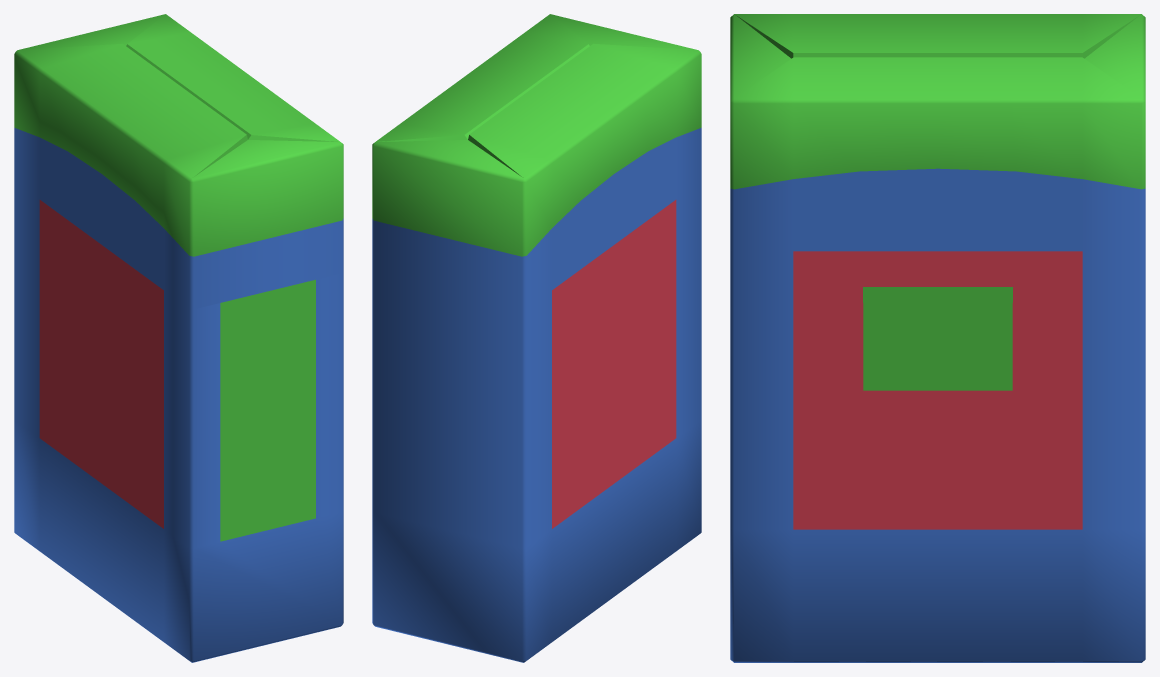
The model's file is CerialBox.fbx.
3 renders of one model, left to right at view 1: azimuth 30°, elevation 25°; view 2: azimuth 150°, elevation 25°; view 3: azimuth 270°, elevation 25°, orthographic. The views are drawn at different scales.
Visible parts, largest first — view 1: CerialBoxMesh; view 2: CerialBoxMesh; view 3: CerialBoxMesh.
Part boxes in pixels (box(x1,y1,x2,y2)): CerialBoxMesh: box(14, 14, 343, 662); CerialBoxMesh: box(372, 14, 701, 662); CerialBoxMesh: box(730, 14, 1145, 662).
Bounding box in the file's own units: 0.2 × 0.6069 × 0.4.
